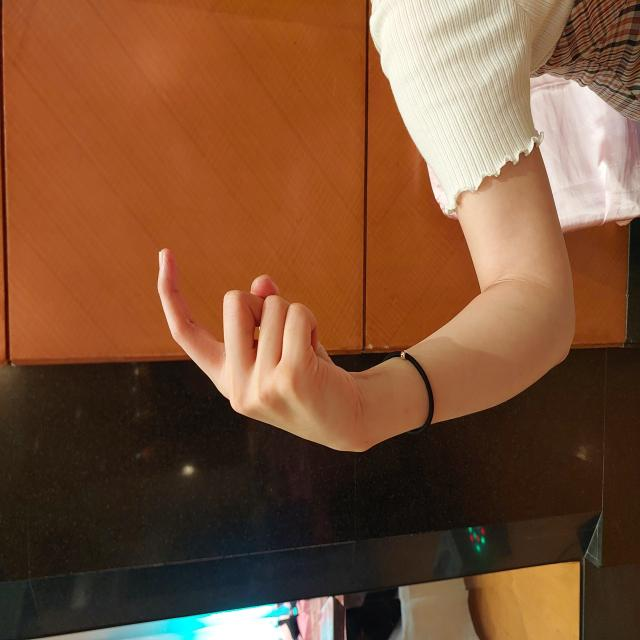X: (188, 154, 396, 364)
